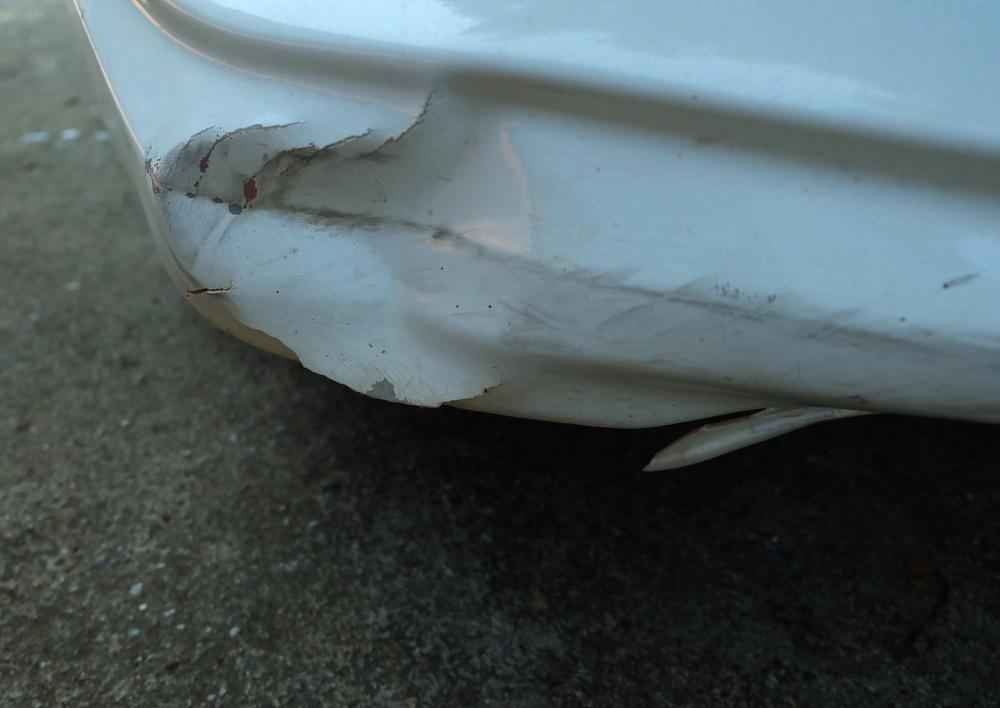dent: (151, 76, 546, 408)
